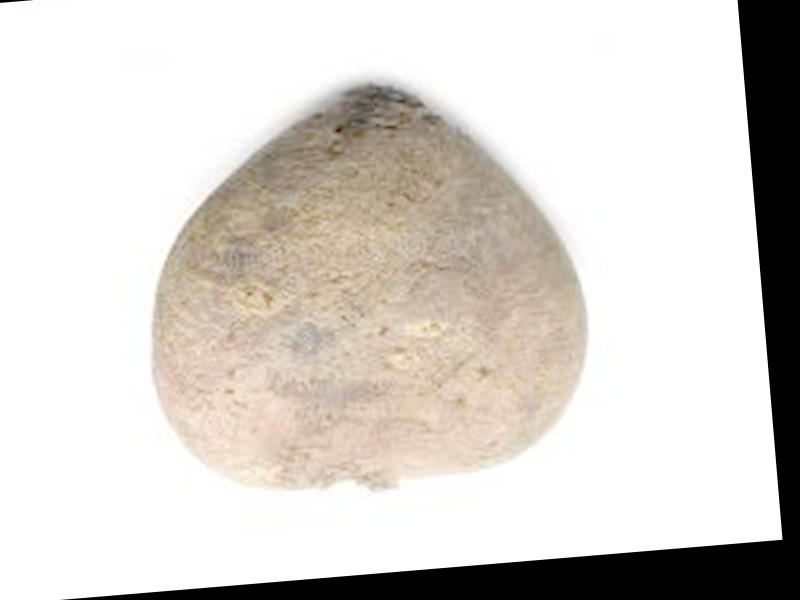Beet: (129, 69, 602, 504)
